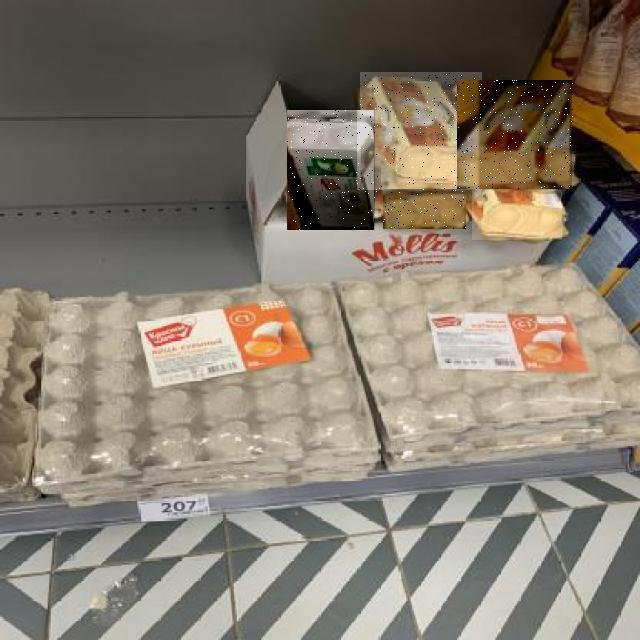Eggs: (360, 73, 482, 191), (458, 80, 574, 189), (288, 110, 378, 230), (473, 191, 563, 241), (383, 189, 466, 229)
